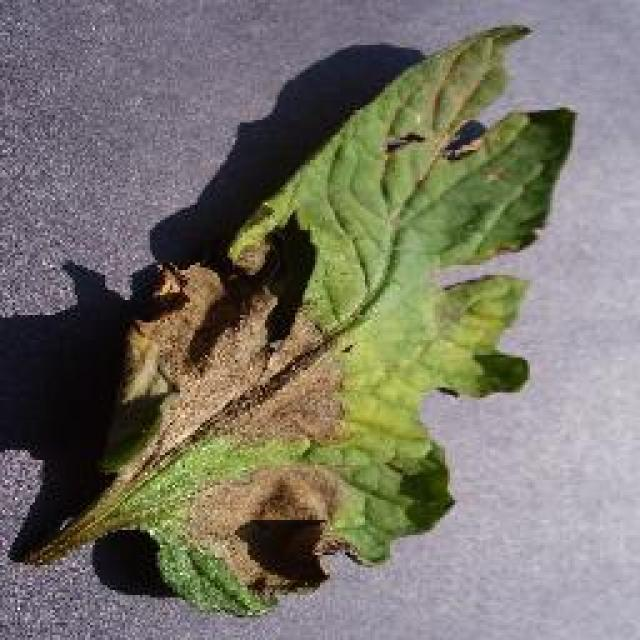Tomato late blight leaf: (104, 18, 584, 620)
